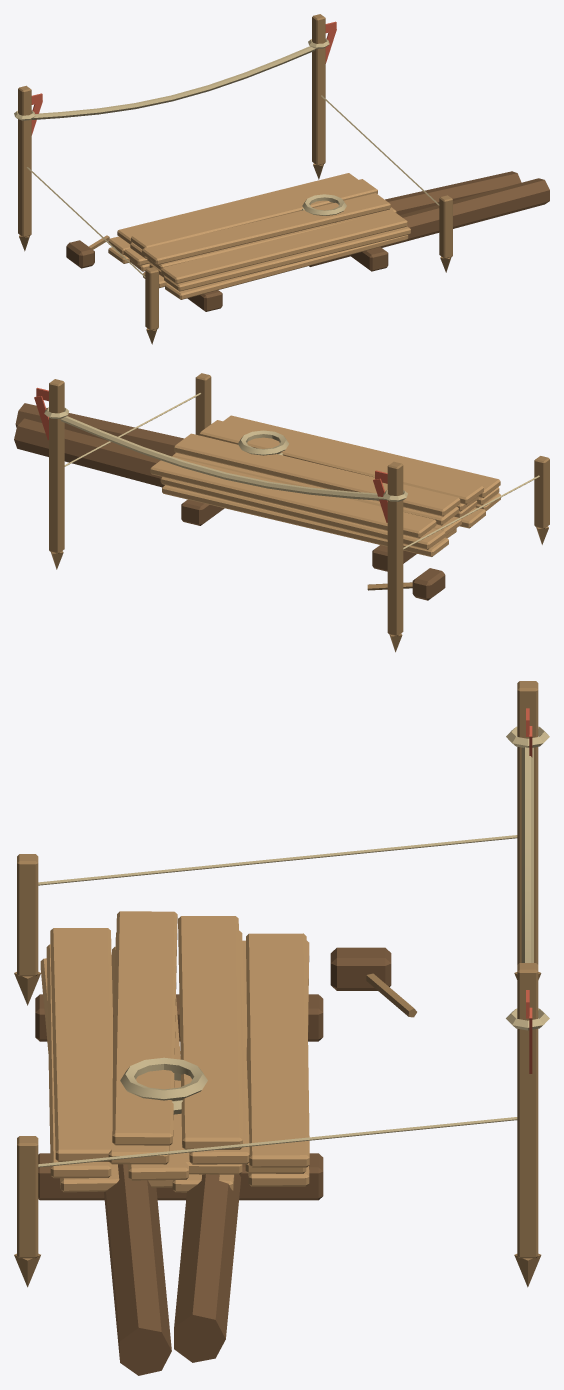
The model's file is unbuilt-bridge.glb.
3 views of the same model, one above another, from view 1: azimuth 30°, elevation 25°; view 2: azimuth 150°, elevation 25°; view 3: azimuth 270°, elevation 25° (orthographic). The views are drawn at different scales.
Parts seen in each view (by area): view 1: unbuilt-bridge; view 2: unbuilt-bridge; view 3: unbuilt-bridge.
Part boxes in pixels (x1,y1,x2,y2): unbuilt-bridge: [14, 14, 549, 344]; unbuilt-bridge: [14, 373, 549, 652]; unbuilt-bridge: [14, 681, 549, 1375].
Size of the model in its own units: 3.23 by 1.17 by 1.77.
